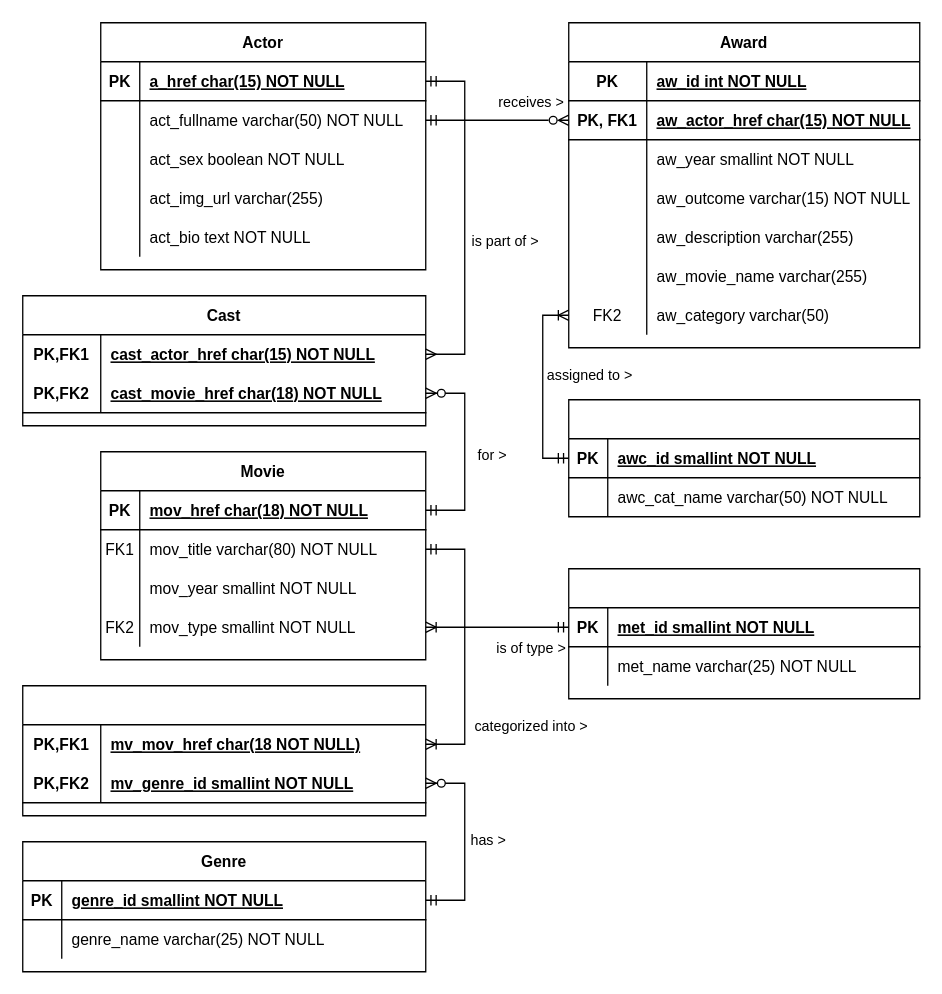
This 942x994 diagram has some shape labels left out. Each missing label, with the box of its shape:
AwardCategory: (567, 398, 920, 517)
MediumType: (567, 567, 920, 699)
MovieGenre: (21, 684, 426, 816)
